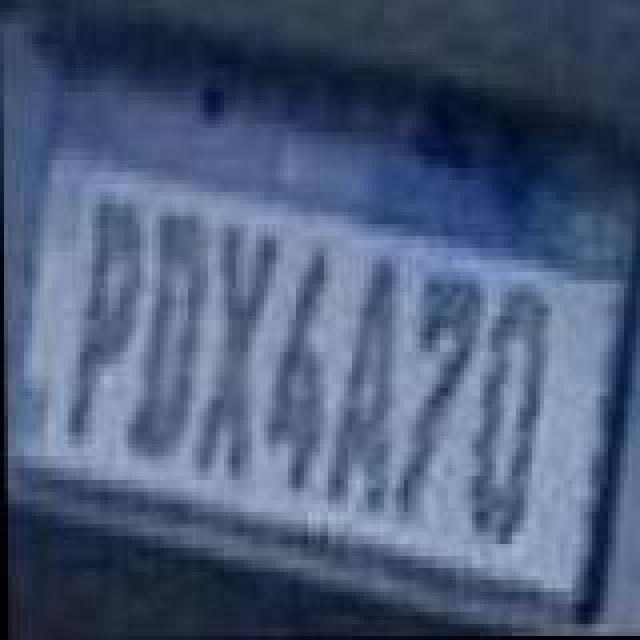4: (264, 240, 336, 492)
7: (386, 272, 486, 516)
A: (318, 254, 402, 518)
D: (460, 284, 556, 552), (122, 210, 214, 462)
P: (54, 200, 146, 448)
X: (182, 218, 282, 482)
